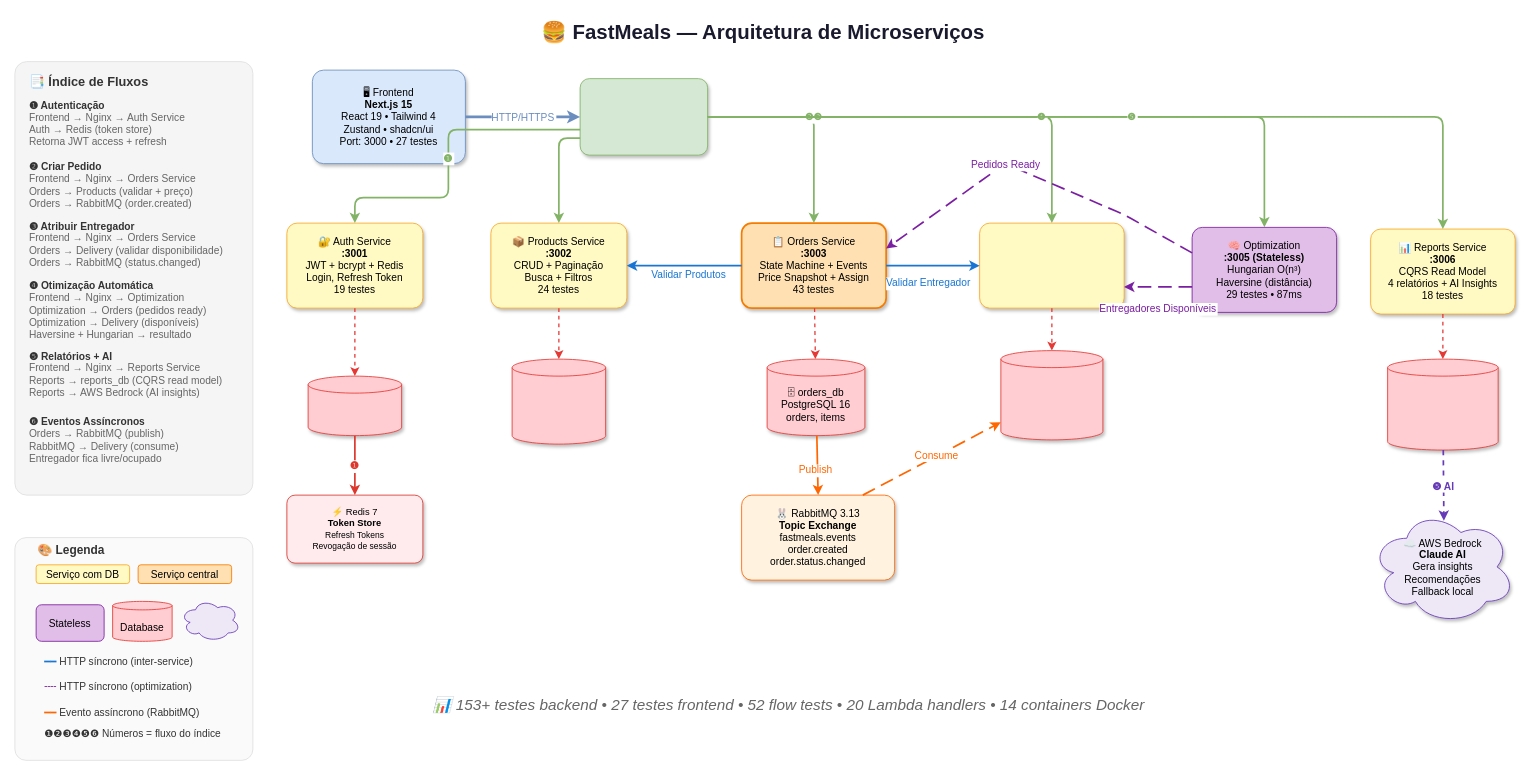
Image size: 1535x775. Some labels were removed from this diagram. Here are the shapes that lost their labels. From the top down, the centre of each, then its label:
[644,117]: 🔀 Nginx API Gateway Reverse Proxy Port: 80 / 443
[1052,266]: 🚴 Delivery Service :3004 CRUD Entregadores Disponibilidade + Events 20 testes
[355,407]: 🗄 auth_db PostgreSQL 16 users
[559,402]: 🗄 products_db PostgreSQL 16 products
[1052,396]: 🗄 delivery_db PostgreSQL 16 delivery_persons
[1443,405]: 🗄 reports_db PostgreSQL 16 CQRS Read Model all tables
[210,619]: Cloud
